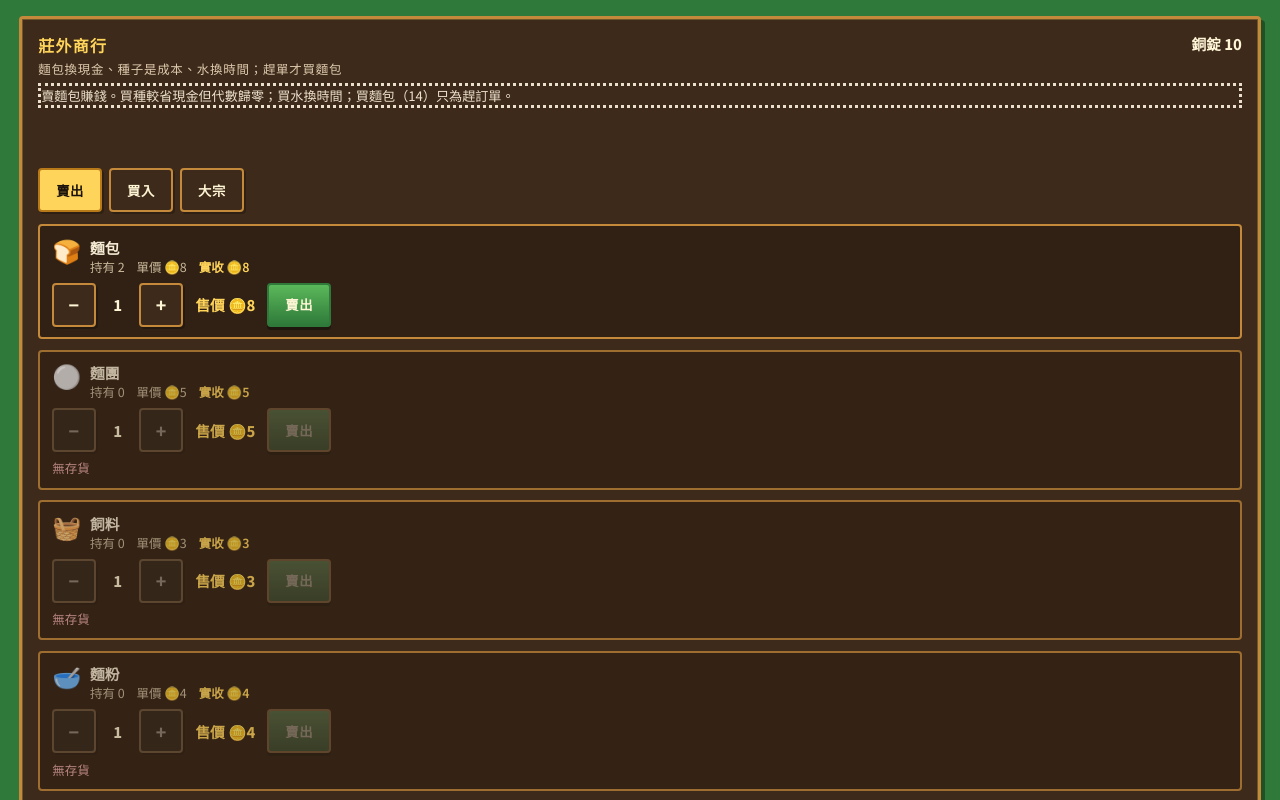
Scenario: MarketPanel › shows commodities tab and oil sparkline when enabled
Click the tab with test id "market-tab-commodities" at (212, 190), box [180,168,244,212]
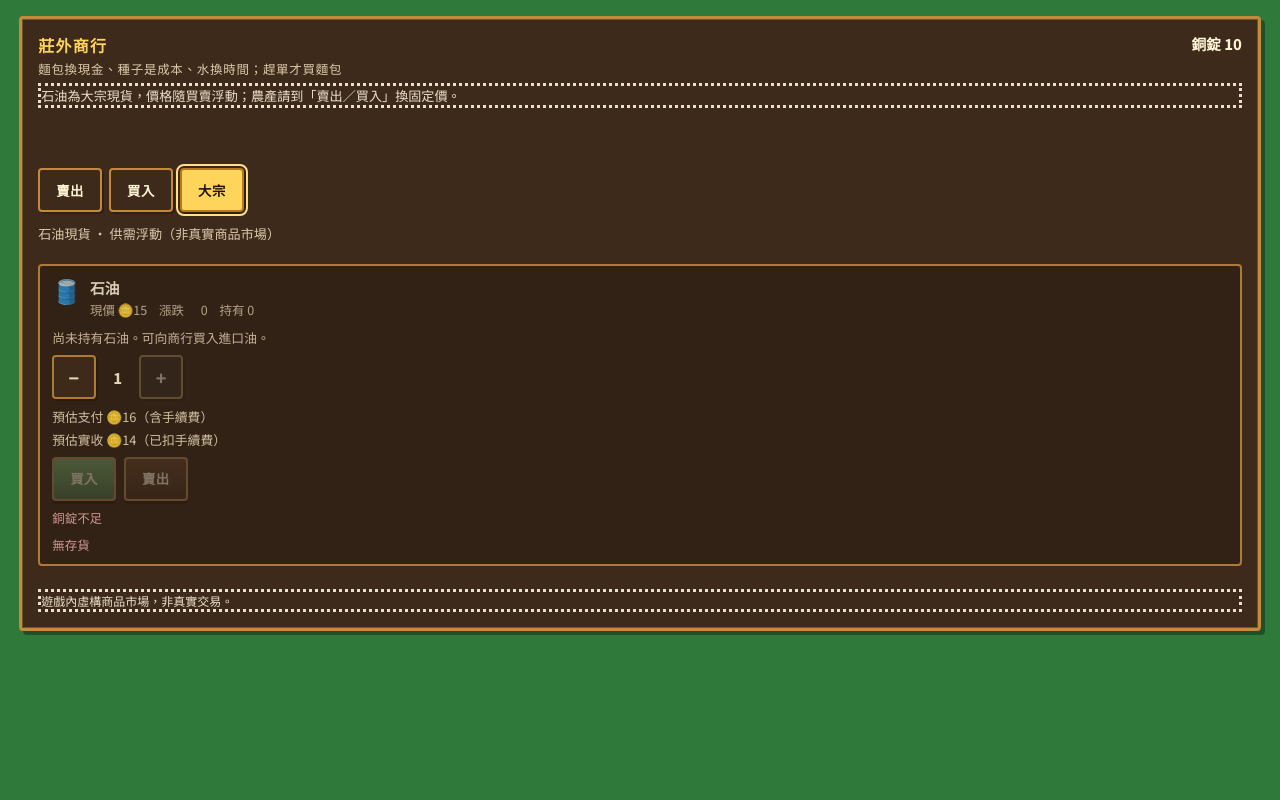
Result: the panel with test id "market-commodities-panel" is shown at [38,224,1242,612]
Result: the text with test id "commodity-empty-hold" reads "尚未持有石油。可向商行買入進口油。" at [52,328,270,346]
